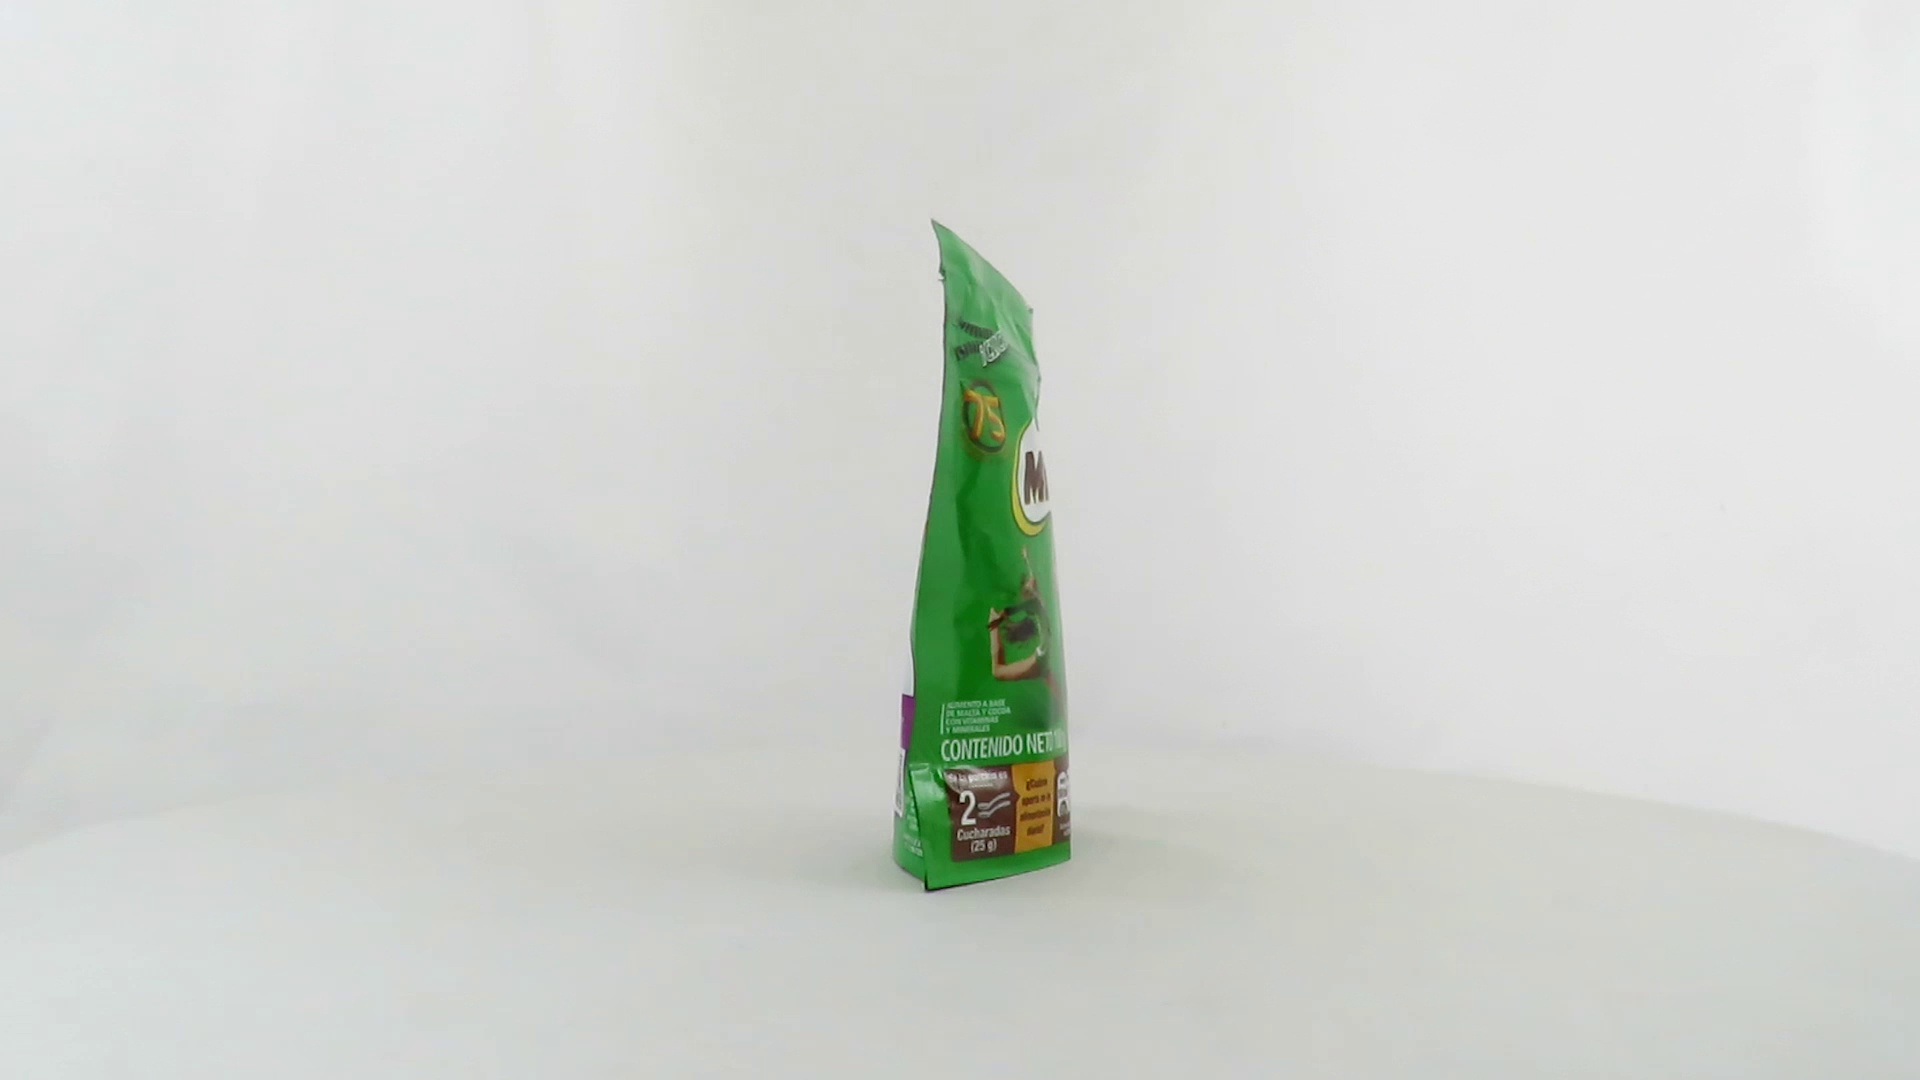COL0170203DYP10000: (887, 214, 1077, 899)
